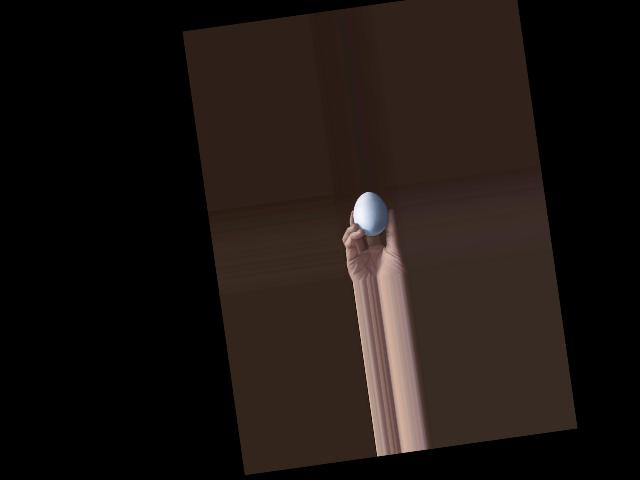egg: (349, 189, 390, 237)
